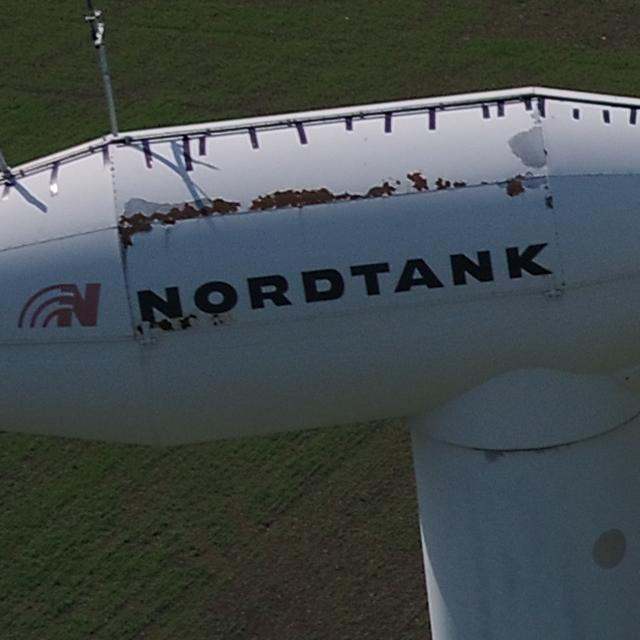damage: (111, 193, 242, 240), (246, 179, 398, 215), (504, 124, 554, 170), (405, 168, 429, 193), (501, 175, 526, 197), (179, 312, 202, 332), (157, 317, 179, 337), (432, 173, 451, 193), (207, 313, 228, 328), (483, 452, 504, 466), (132, 323, 146, 337), (454, 179, 469, 190), (546, 196, 556, 212)
